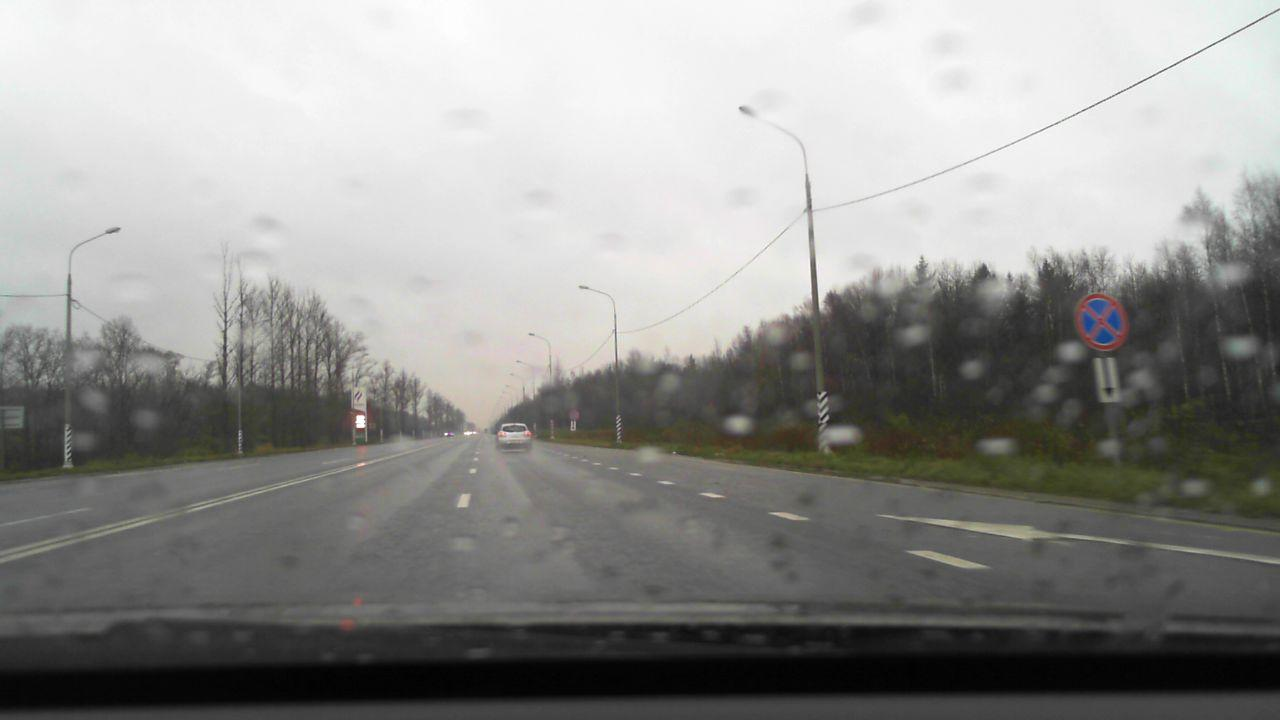3_27: (1071, 293, 1132, 352)
8_2_3: (1092, 356, 1122, 403)
